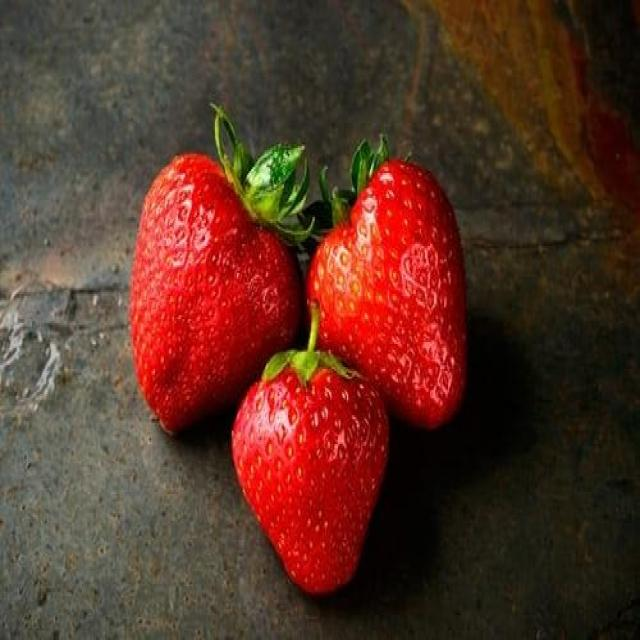mature: (131, 153, 303, 430), (307, 158, 469, 425), (231, 362, 388, 594)
